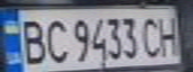3: (121, 13, 142, 60), (106, 14, 124, 61)
4: (87, 15, 109, 62)
9: (69, 15, 90, 64)
B: (15, 15, 48, 65)
C: (42, 15, 69, 65), (139, 14, 163, 58)
H: (154, 12, 184, 57)
